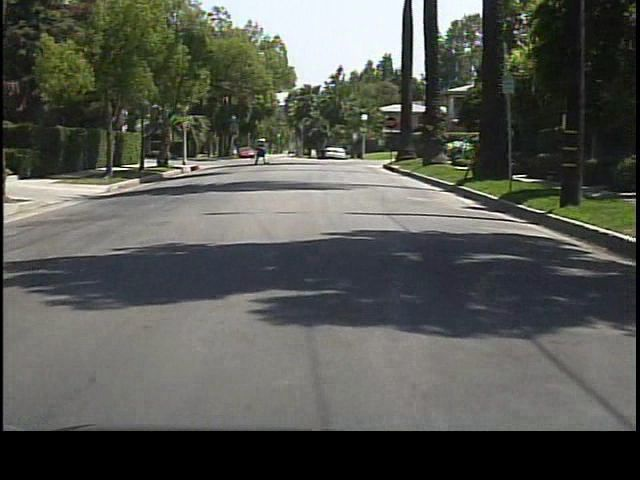person: (254, 136, 268, 167)
